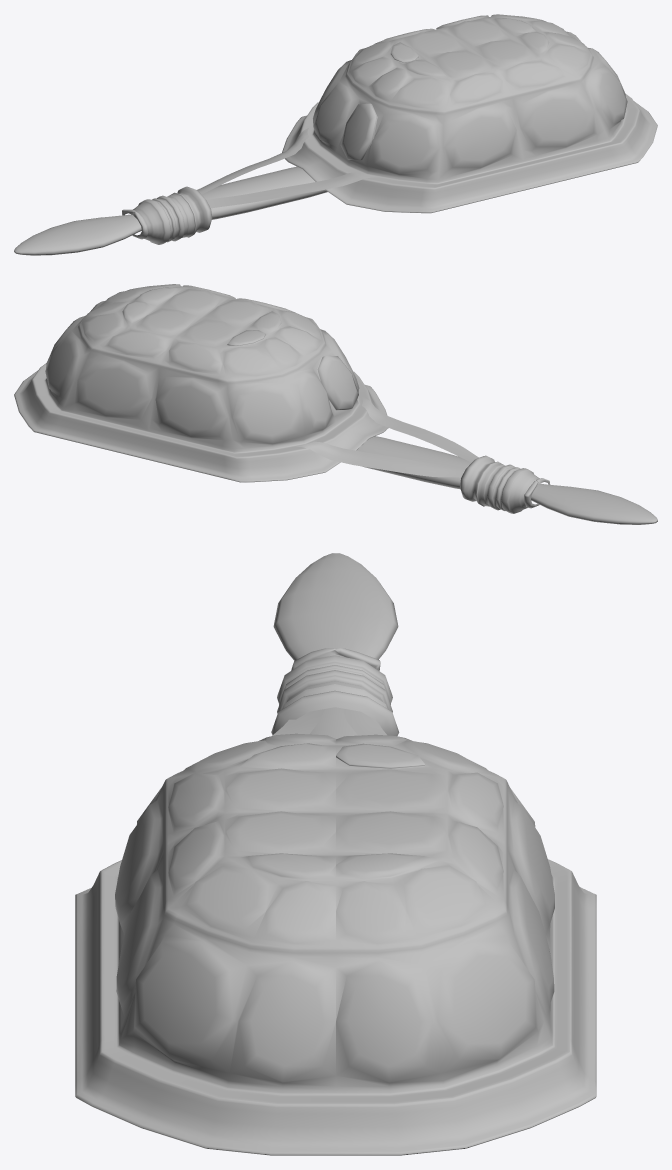
3 views of the same model, one above another, from view 1: azimuth 30°, elevation 25°; view 2: azimuth 150°, elevation 25°; view 3: azimuth 270°, elevation 25° (orthographic). The views are drawn at different scales.
Visible parts, largest first — view 1: pCube1, turtle_rattle_1:pCylinder1, pTorus1, pPlane1, pPlane2; view 2: pCube1, turtle_rattle_1:pCylinder1, pTorus1, pPlane2, pPlane1; view 3: pCube1, turtle_rattle_1:pCylinder1, pTorus1.
Part boxes in pixels (x1=…): pCube1: x1=282, y1=14, x2=657, y2=213; turtle_rattle_1:pCylinder1: x1=14, y1=166, x2=327, y2=255; pTorus1: x1=122, y1=186, x2=212, y2=244; pPlane1: x1=206, y1=172, x2=377, y2=208; pPlane2: x1=197, y1=128, x2=308, y2=194; pCube1: x1=14, y1=284, x2=388, y2=482; turtle_rattle_1:pCylinder1: x1=356, y1=436, x2=657, y2=524; pTorus1: x1=460, y1=455, x2=550, y2=513; pPlane2: x1=295, y1=441, x2=466, y2=477; pPlane1: x1=361, y1=397, x2=478, y2=462; pCube1: x1=75, y1=733, x2=596, y2=1155; turtle_rattle_1:pCylinder1: x1=273, y1=553, x2=398, y2=739; pTorus1: x1=271, y1=648, x2=399, y2=735.
Bounding box in the file's own units: 4.15 × 0.7694 × 1.52.
5 materials, 5 textured.
